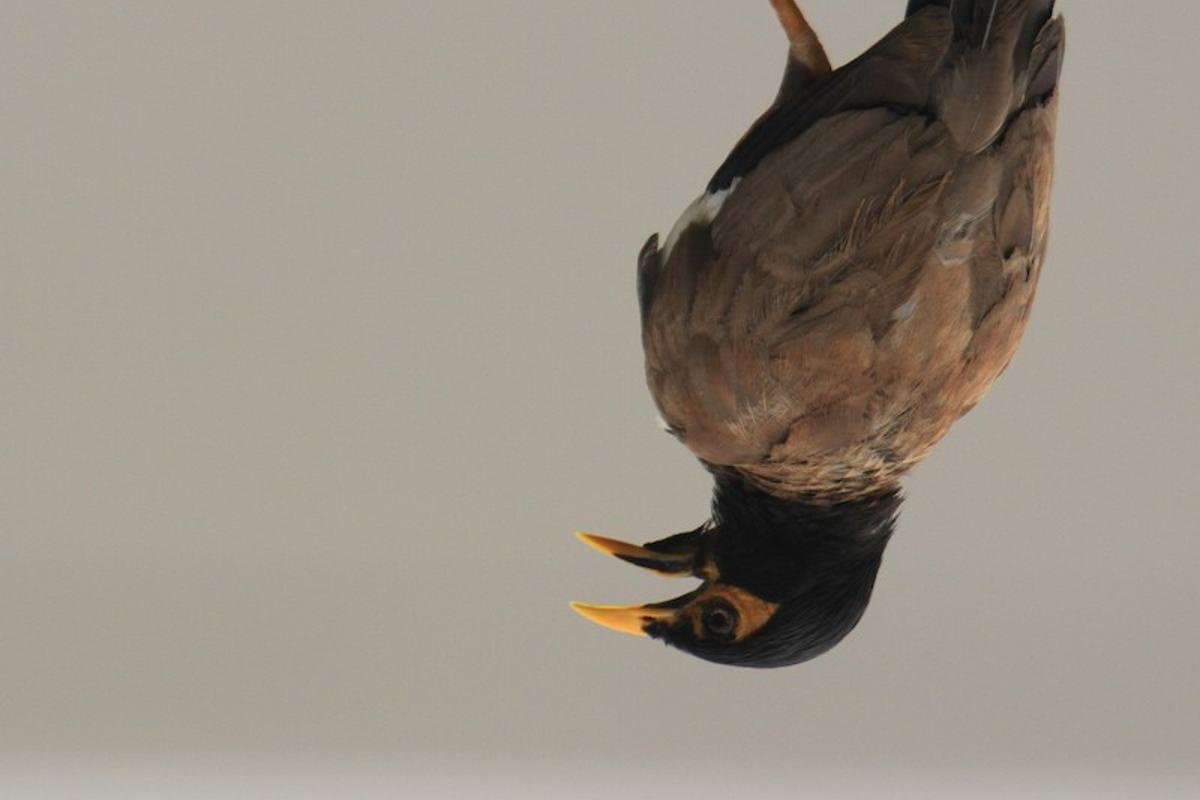myna: (557, 18, 1090, 676)
